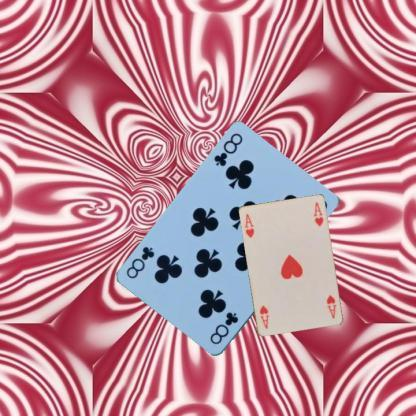8c: (211, 130, 244, 168), (207, 310, 240, 346)
Ah: (242, 210, 256, 240), (324, 292, 338, 320)
